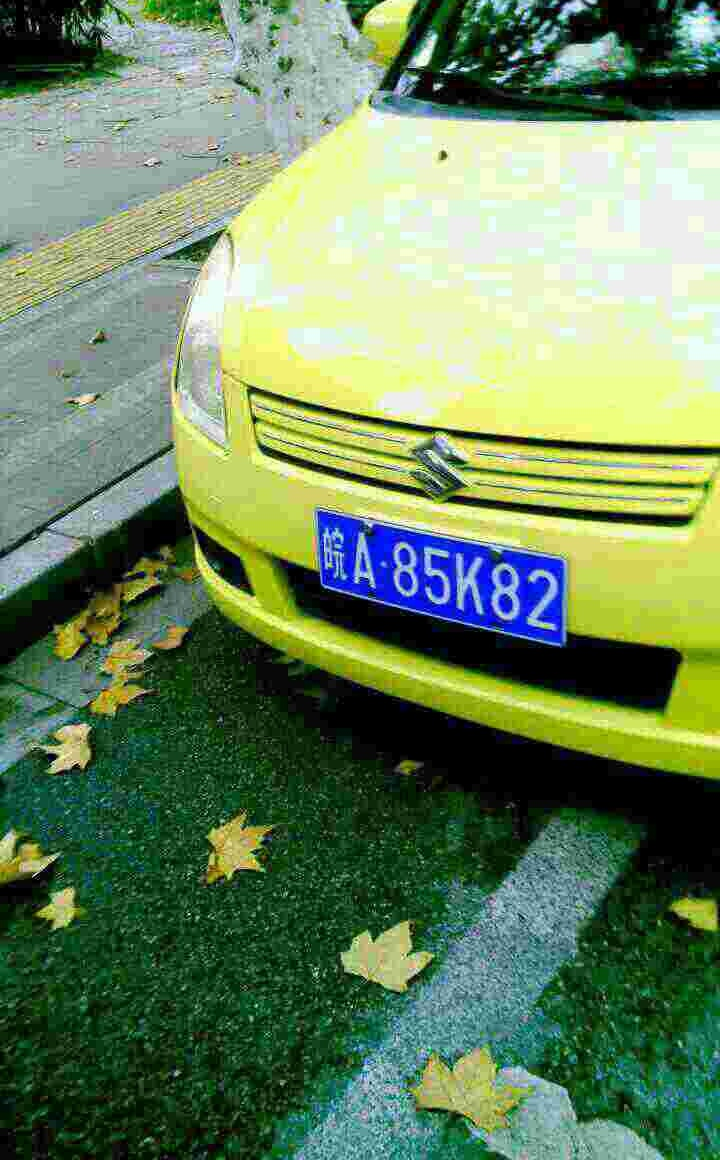license_plate: (317, 496, 556, 635)
